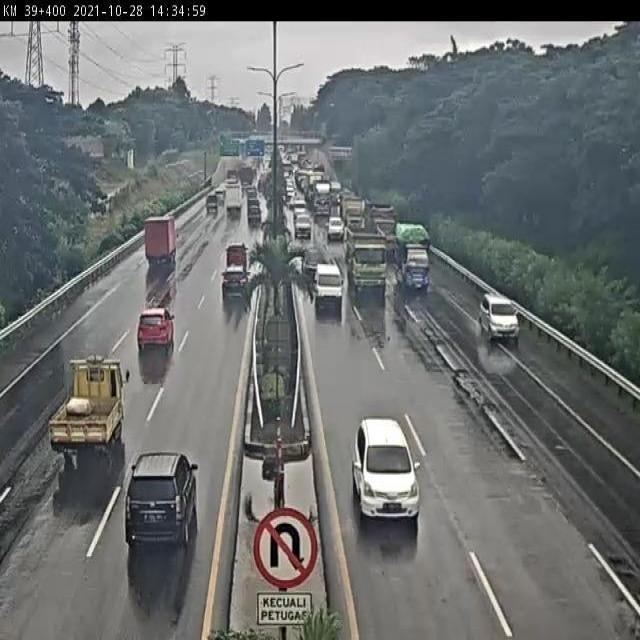big truck: (348, 232, 389, 307)
car: (119, 444, 203, 564), (355, 416, 422, 531), (128, 312, 175, 371), (476, 288, 520, 351), (315, 260, 346, 315), (224, 260, 252, 311), (219, 245, 251, 280), (328, 214, 345, 247), (302, 245, 319, 271), (295, 214, 313, 238)
small truck: (44, 345, 131, 472), (140, 199, 190, 272), (391, 223, 429, 300)
